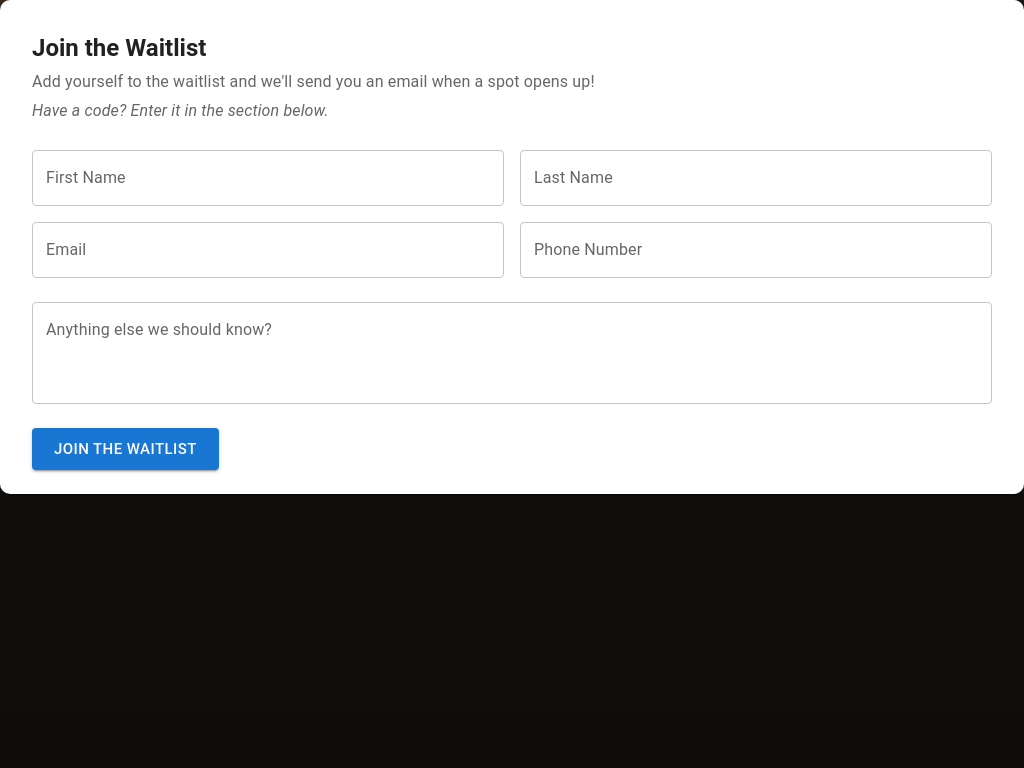
Test case: WaitlistForm › successful submission › posts the form data and shows a success message
Type "Jane" into the field labelled "First Name".
click(268, 178); type("Jane")  # box [32,150,504,206]
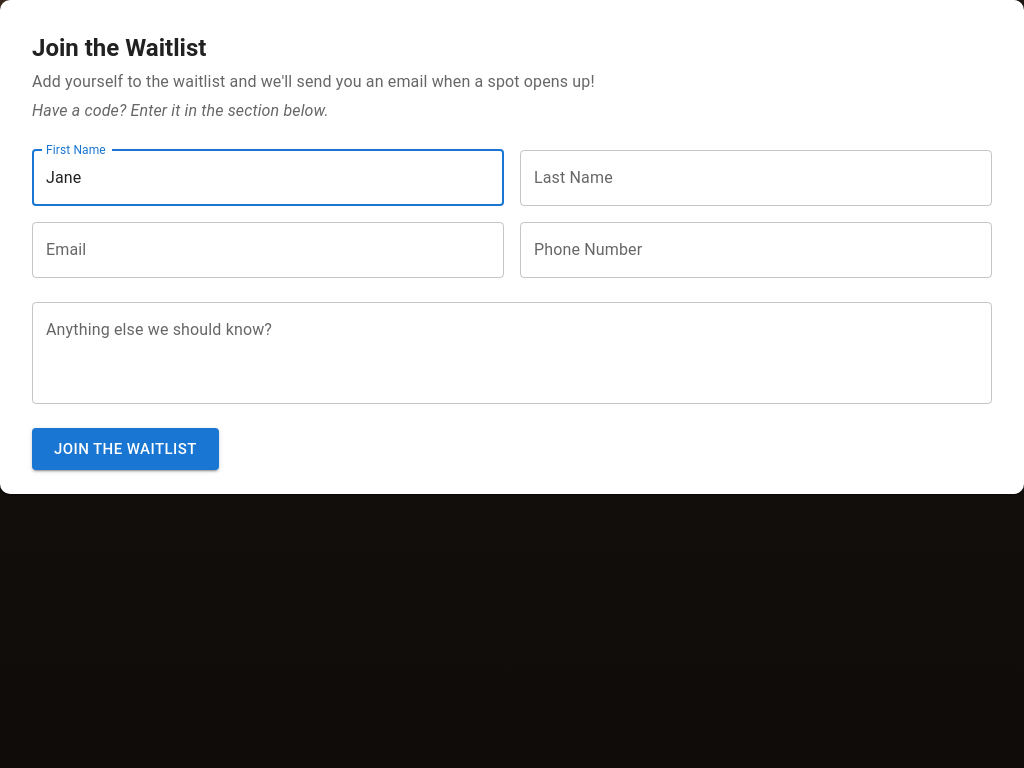
Type "Doe" into the field labelled "Last Name".
click(756, 178); type("Doe")  # box [520,150,992,206]
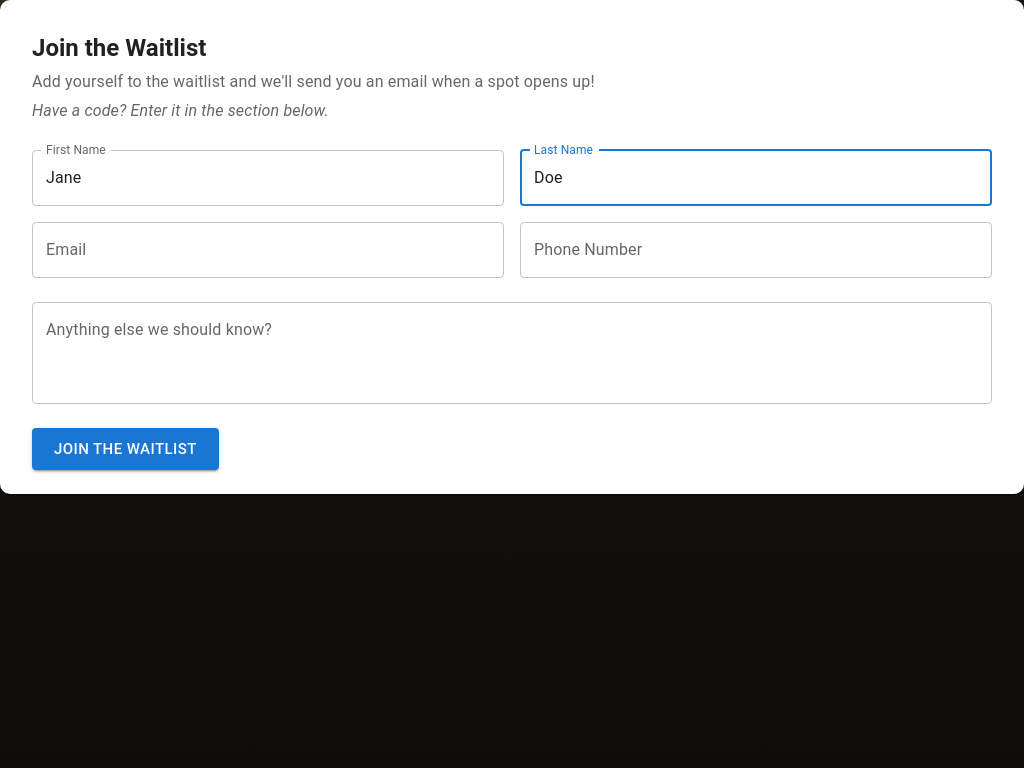
Type "jane@example.com" into the field labelled "Email".
click(268, 250); type("jane@example.com")  # box [32,222,504,278]
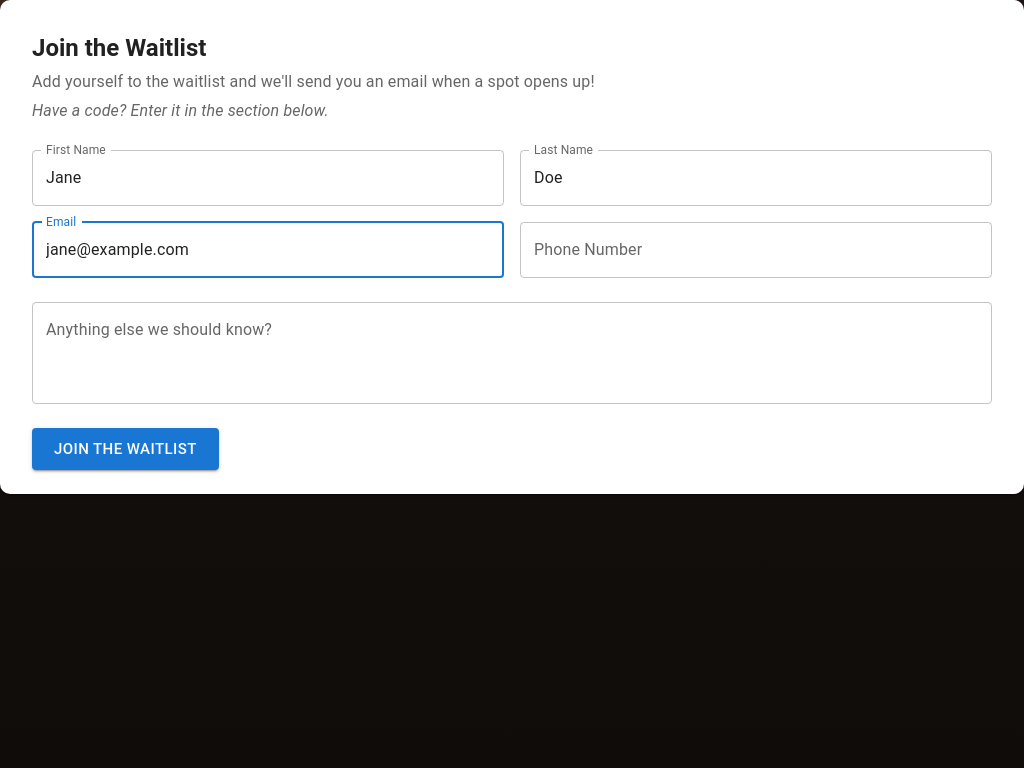
Type "555-0100" into the field labelled "Phone Number".
click(756, 250); type("555-0100")  # box [520,222,992,278]
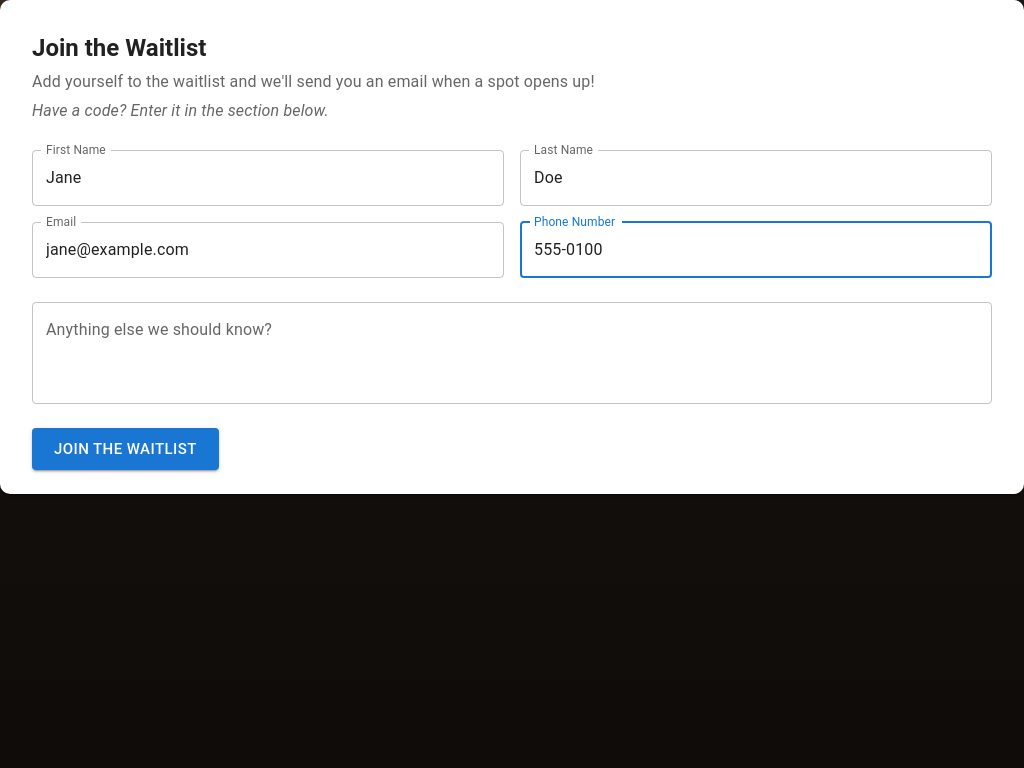
Click the button "Join the Waitlist".
click(125, 449)  # box [32,428,219,470]
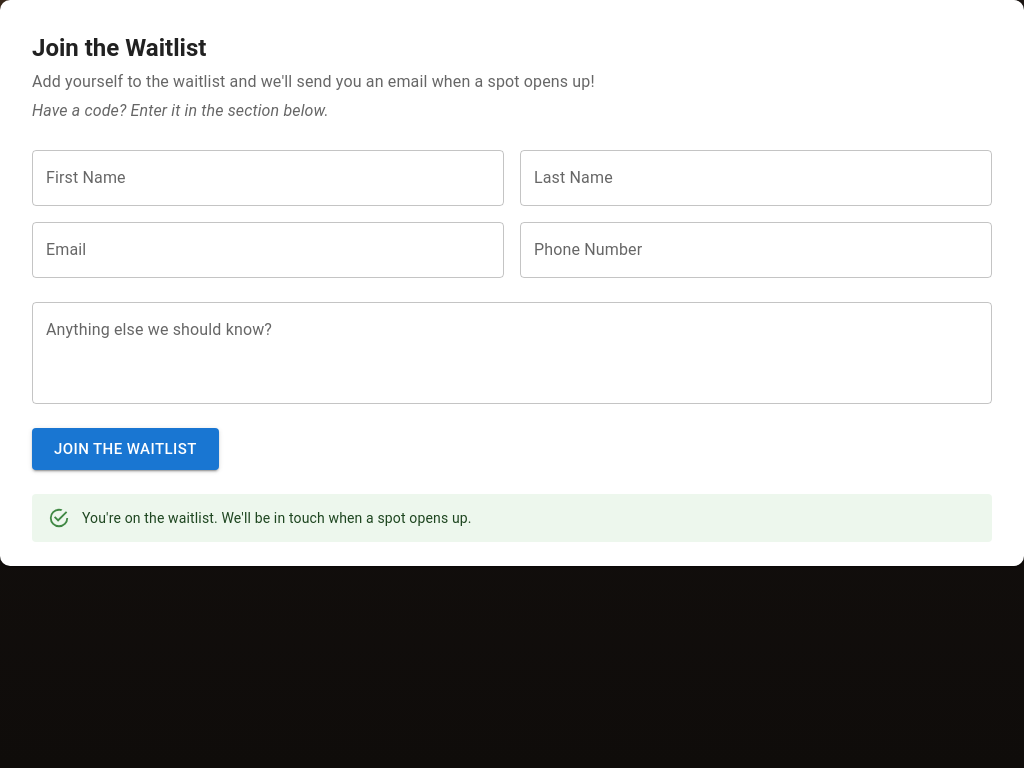
Expected: the message shows "You're on the waitlist", [82,510,472,526]
